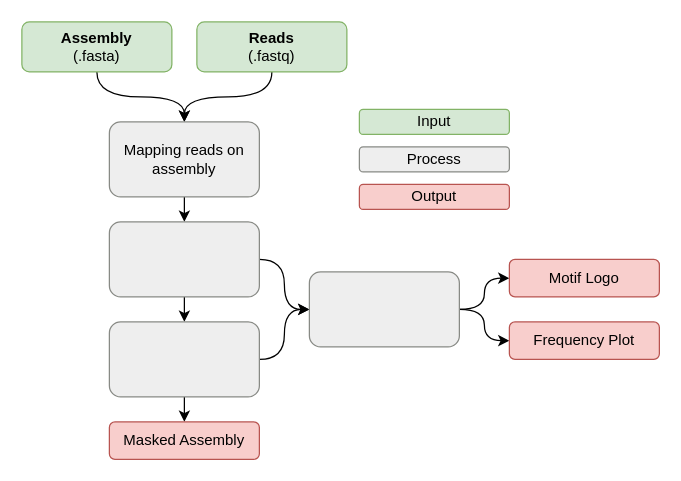
This 681x481 diagram has some shape labels left out. The shapes that lost their labels are listed below. From the top down, each one's centre as x and y in pixels, then its label:
At [183,259]: "Masking ambiguous positions".
At [383,309]: "Position count".
At [183,359]: "Depth masking".
